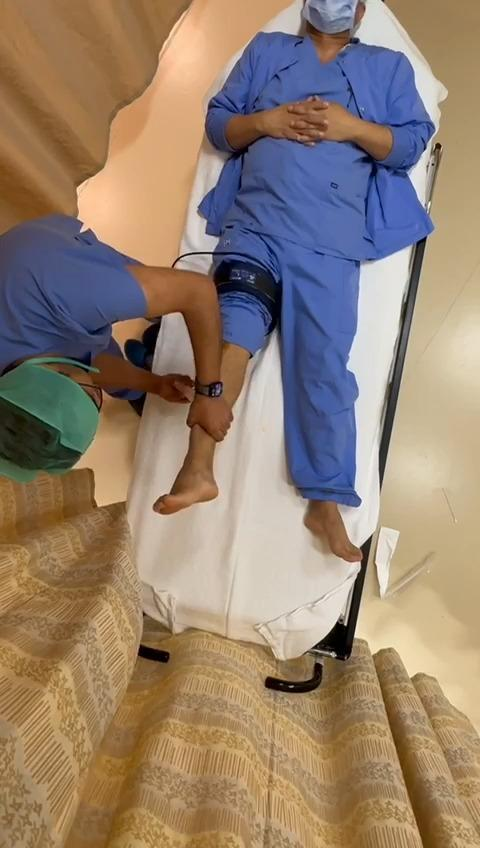patient: (200, 0, 436, 563)
tourniquet: (214, 260, 282, 330)
